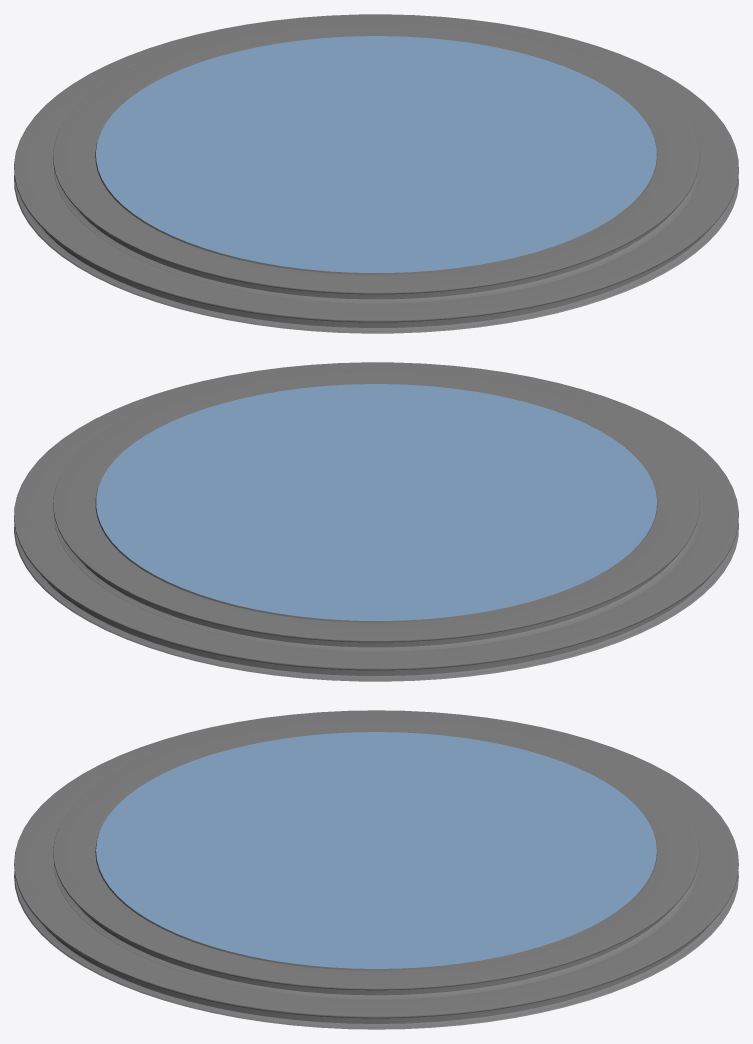
File: SM_Pied.FBX
3 views of the same model, one above another, from view 1: azimuth 30°, elevation 25°; view 2: azimuth 150°, elevation 25°; view 3: azimuth 270°, elevation 25° (orthographic).
Parts seen in each view (by area): view 1: SM_Pied; view 2: SM_Pied; view 3: SM_Pied.
Part boxes in pixels (left/top/right/bottom): SM_Pied: left=14, top=14, right=738, bottom=333; SM_Pied: left=14, top=362, right=738, bottom=681; SM_Pied: left=14, top=710, right=738, bottom=1029.
Bounding box in the file's own units: 606 × 25.07 × 606.
